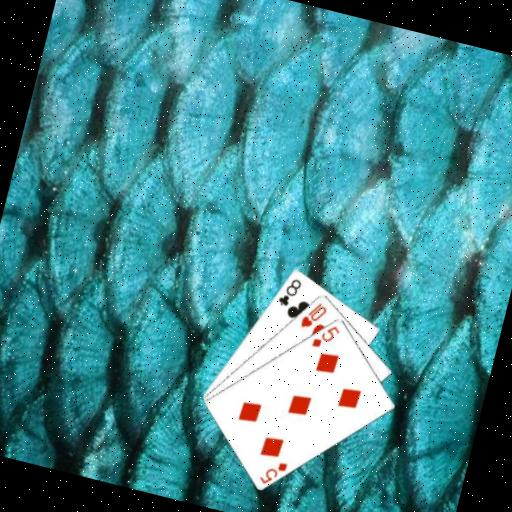10H: (297, 296, 330, 333)
5D: (309, 318, 344, 354), (256, 454, 291, 490)
8C: (274, 272, 305, 311)
